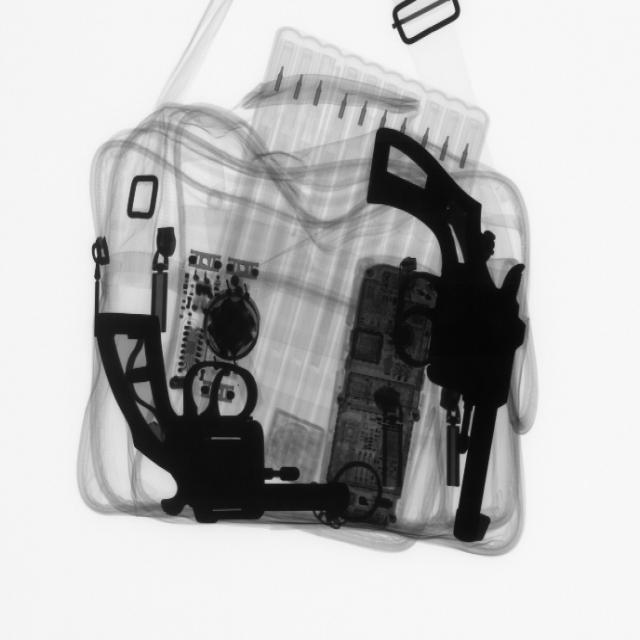GUN: (372, 118, 539, 562), (98, 298, 346, 528)
